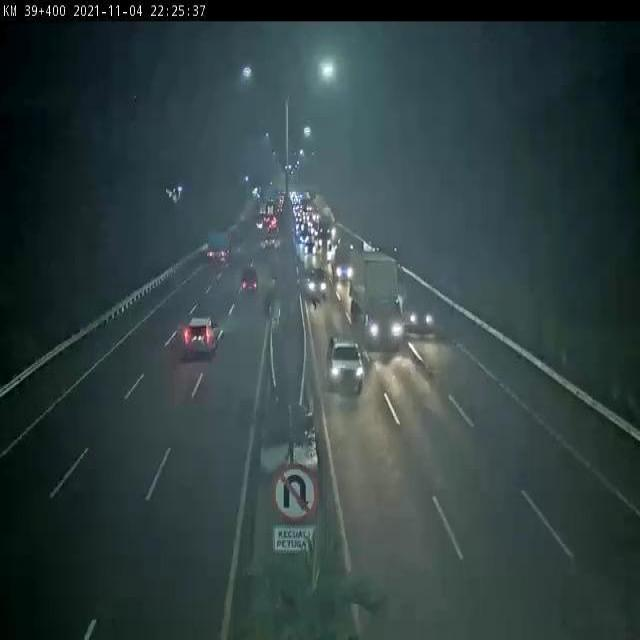car: (321, 333, 365, 398), (395, 283, 439, 337), (182, 312, 220, 360), (303, 265, 332, 303), (237, 268, 260, 303), (259, 237, 276, 256)
truck-m-: (329, 244, 356, 288)
truck-s-: (202, 229, 229, 271)
truck-xl-: (349, 250, 397, 346)
